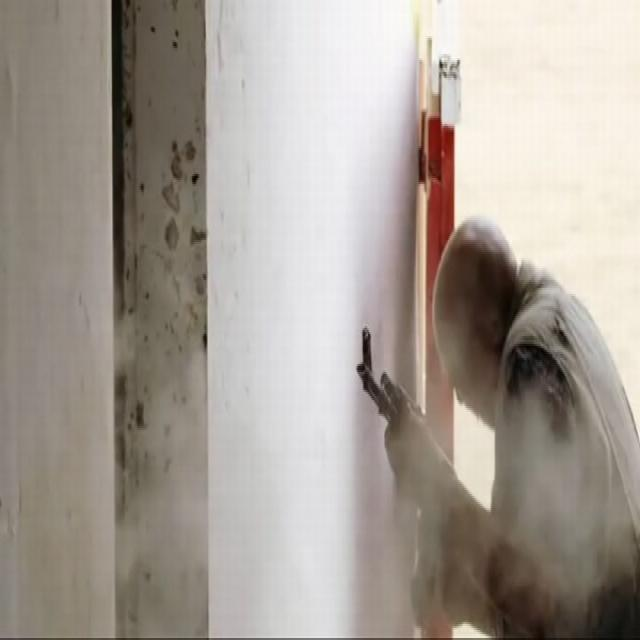rifle: (355, 324, 409, 429)
